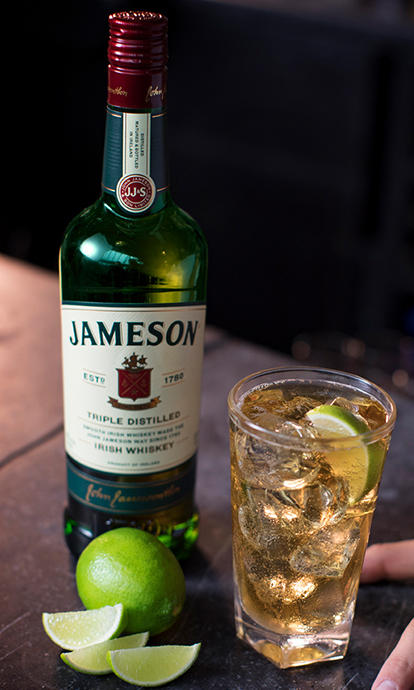Jameson: (52, 9, 211, 571)
